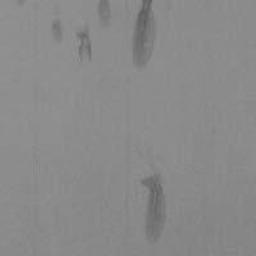Oil spot: (129, 0, 173, 73), (138, 168, 169, 247), (73, 22, 95, 70), (95, 0, 118, 29), (50, 17, 65, 47), (15, 0, 27, 9)
